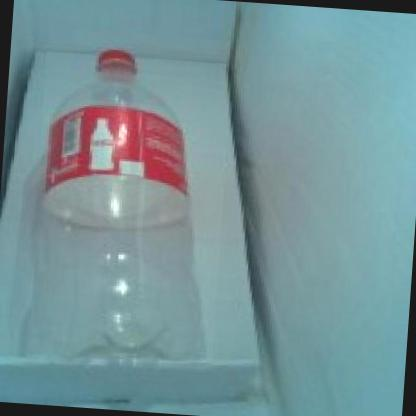plastic_bottles: (26, 29, 235, 370)
